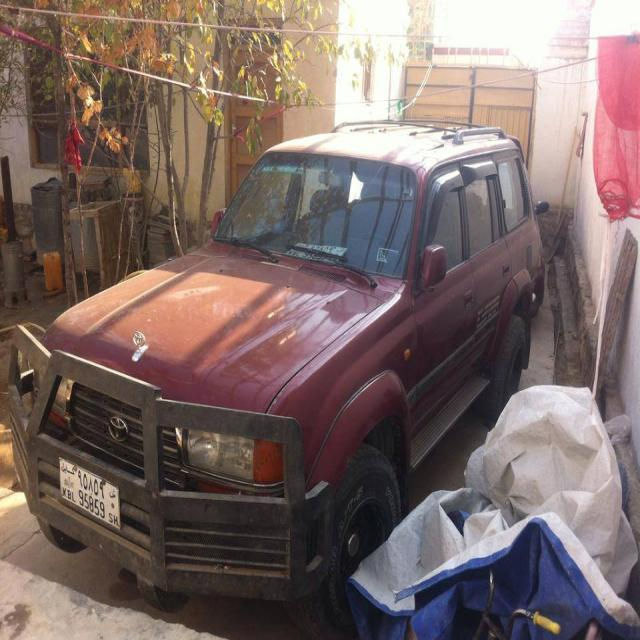Plate: (56, 455, 124, 537)
